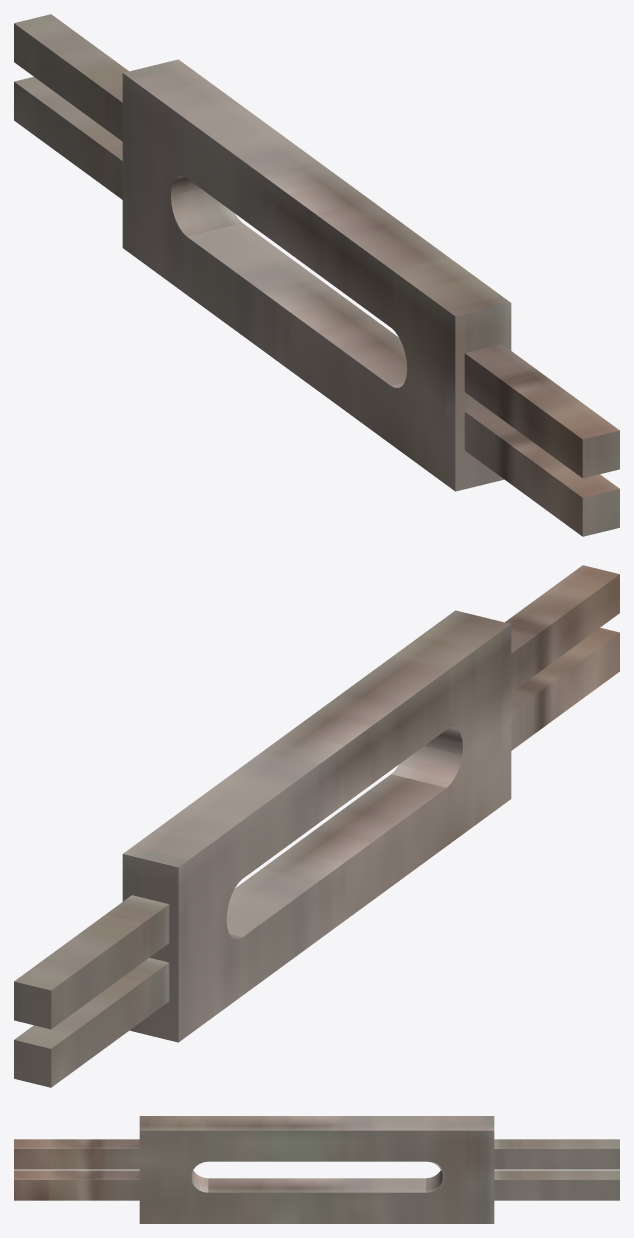
The model's file is original-7.obj.
3 views of the same model, one above another, from view 1: azimuth 30°, elevation 25°; view 2: azimuth 150°, elevation 25°; view 3: azimuth 270°, elevation 25° (orthographic). The views are drawn at different scales.
Parts seen in each view (by area): view 1: Rail2_2/Rail2/mesh11/mesh11-geometry#mesh11-geometry; view 2: Rail2_2/Rail2/mesh11/mesh11-geometry#mesh11-geometry; view 3: Rail2_2/Rail2/mesh11/mesh11-geometry#mesh11-geometry.
Part boxes in pixels (x1,y1,x2,y2): Rail2_2/Rail2/mesh11/mesh11-geometry#mesh11-geometry: (14, 14, 619, 536); Rail2_2/Rail2/mesh11/mesh11-geometry#mesh11-geometry: (14, 565, 619, 1087); Rail2_2/Rail2/mesh11/mesh11-geometry#mesh11-geometry: (14, 1116, 619, 1223).
Bounding box in the file's own units: 0.0273 × 0.0819 × 0.482.
